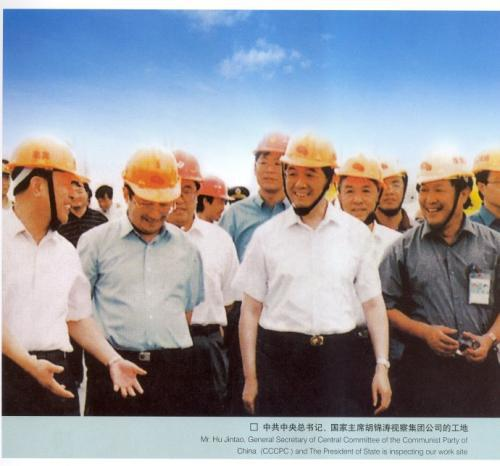helmet: (9, 126, 87, 236), (116, 140, 181, 231), (413, 149, 475, 234), (281, 128, 338, 209), (337, 149, 388, 224), (248, 125, 295, 204), (376, 153, 411, 220), (478, 144, 500, 224), (175, 157, 202, 220), (198, 178, 232, 228)
